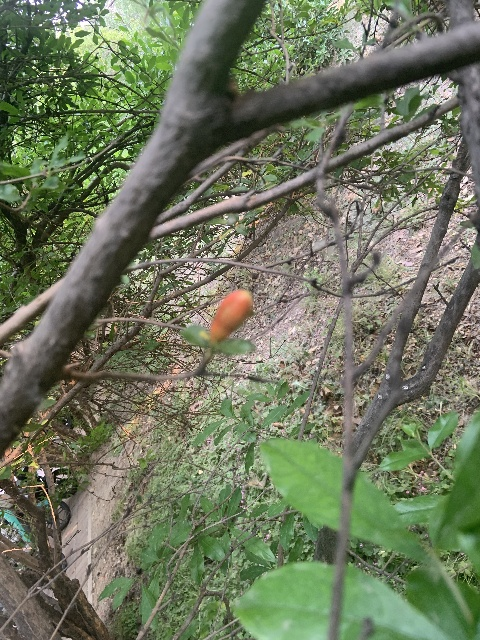bud: (209, 288, 252, 342)
